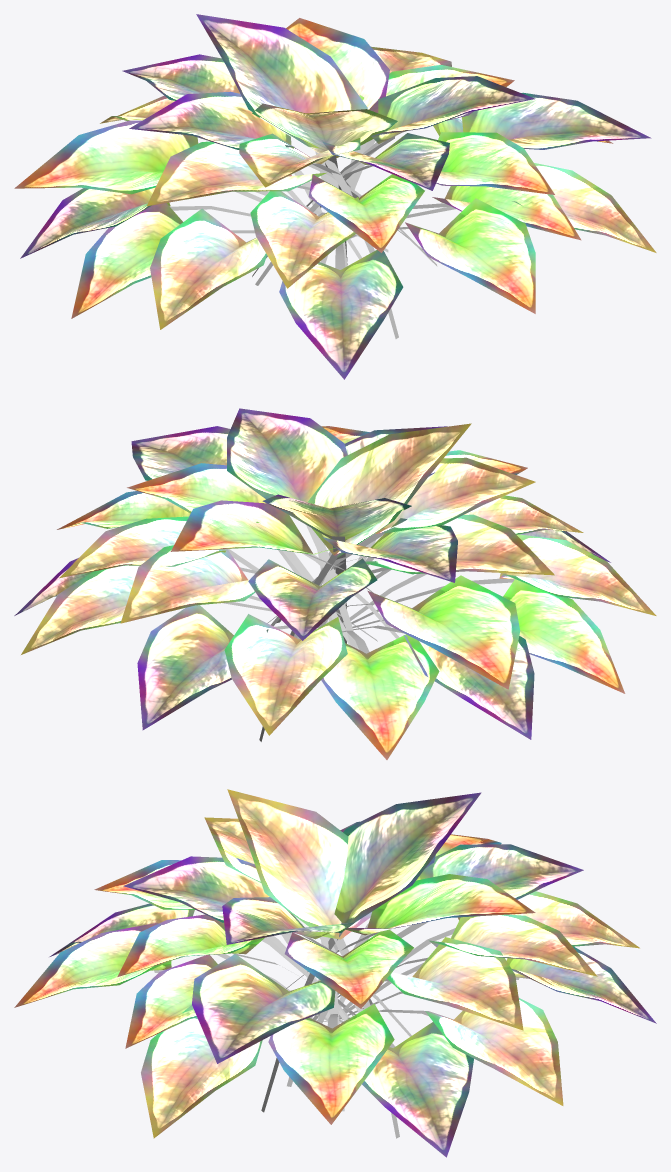
The model's file is hosta_01_SM.fbx.
3 views of the same model, one above another, from view 1: azimuth 30°, elevation 25°; view 2: azimuth 150°, elevation 25°; view 3: azimuth 270°, elevation 25° (orthographic).
Visible parts, largest first — view 1: hosta_01_SM_LOD0; view 2: hosta_01_SM_LOD0; view 3: hosta_01_SM_LOD0.
Part boxes in pixels (<box>): hosta_01_SM_LOD0: <box>14,14,656,379</box>; hosta_01_SM_LOD0: <box>14,408,656,759</box>; hosta_01_SM_LOD0: <box>14,789,656,1157</box>.
Bounding box in the file's own units: 180 × 178 × 89.11.
2 materials, 1 textured.
